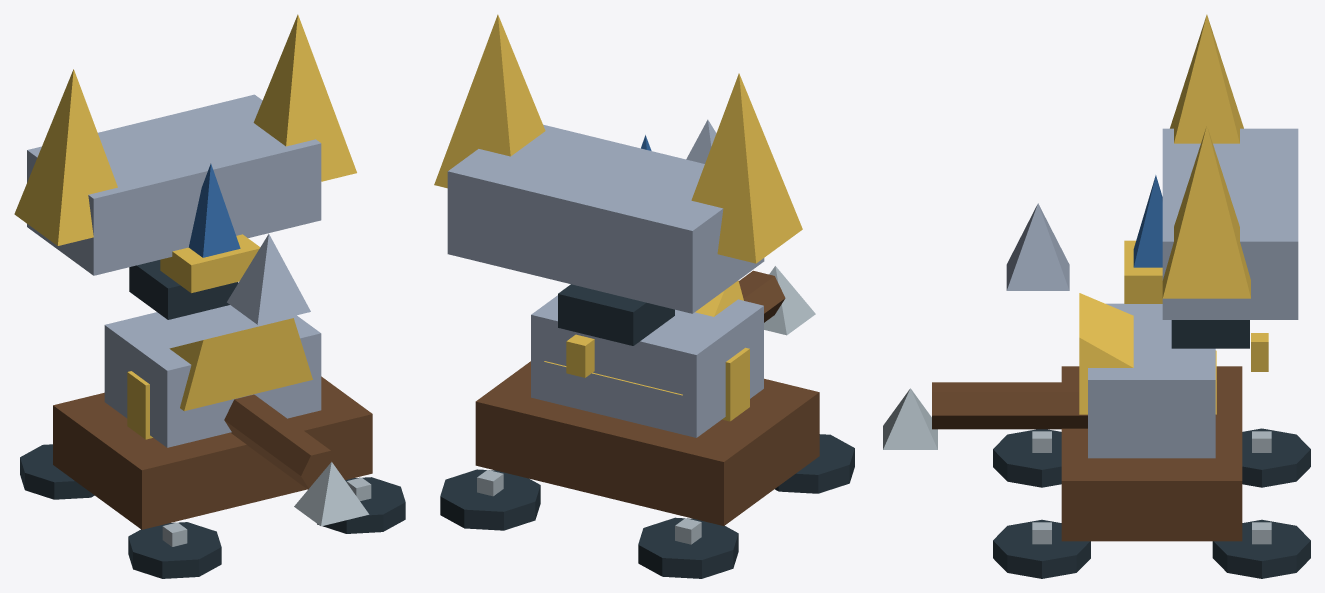
Rendered from legendary-land.obj.
The picture shows the model from 3 angles, left to right: view 1: azimuth 30°, elevation 25°; view 2: azimuth 150°, elevation 25°; view 3: azimuth 270°, elevation 25°; orthographic projection. The views are drawn at different scales.
Parts seen in each view (by area): view 1: siege; view 2: siege; view 3: siege.
Part boxes in pixels (x1,y1,x2,y2): siege: (14,14,405,578); siege: (434,14,854,578); siege: (883,14,1310,578).
Bounding box in the file's own units: 1.79 × 2.49 × 2.18.
